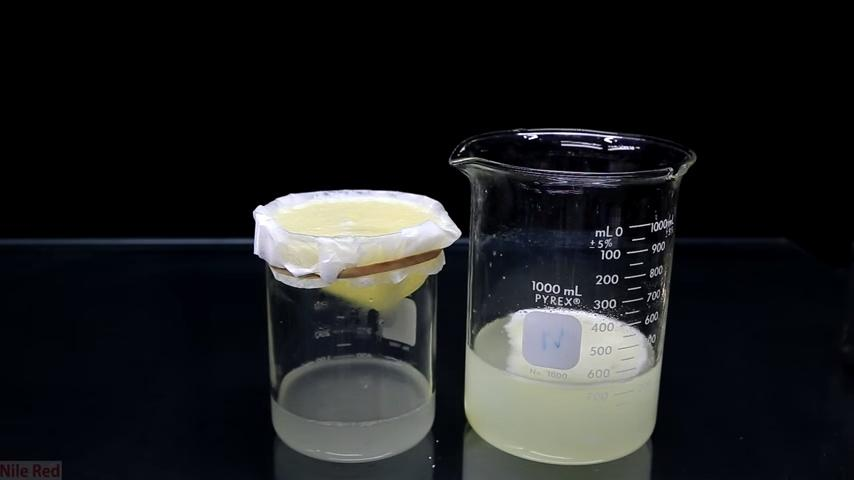Beaker: (451, 122, 686, 468), (239, 181, 453, 460)
